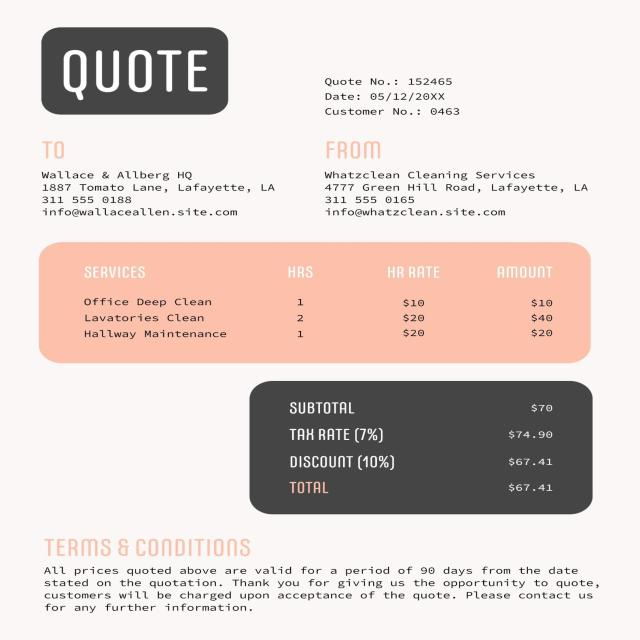paragraph: (24, 534, 614, 622), (243, 380, 604, 520), (310, 128, 607, 232), (36, 130, 284, 228), (32, 16, 246, 119), (317, 73, 474, 124)
table: (38, 238, 588, 366)
